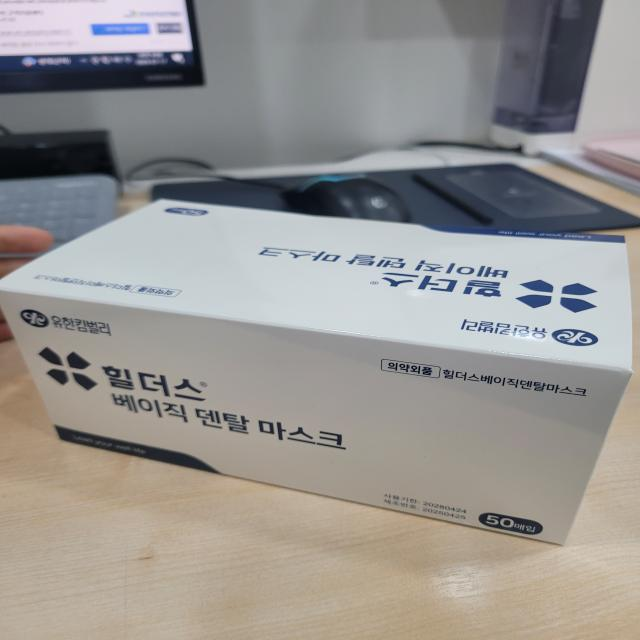mask: (0, 184, 640, 564)
